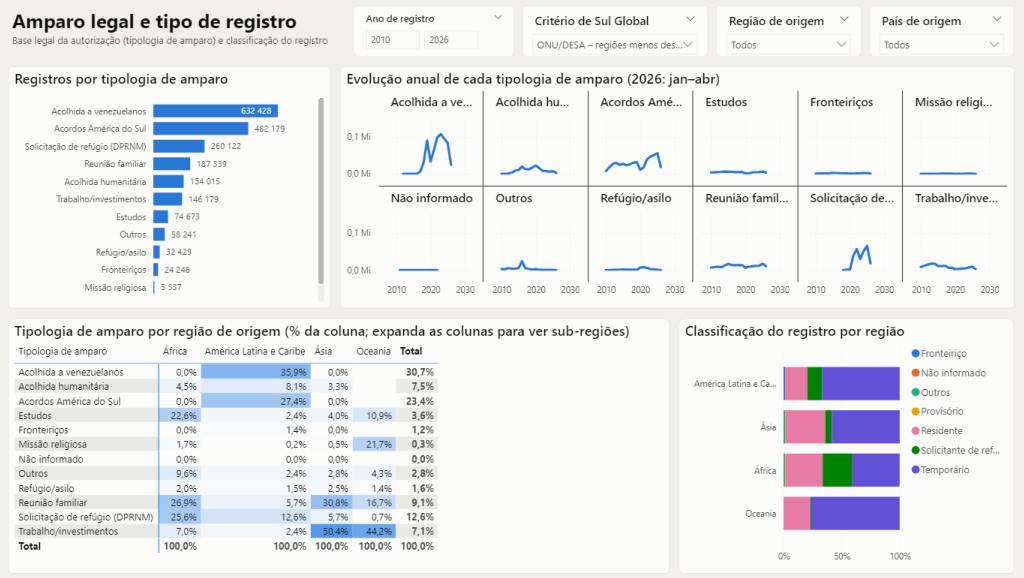

The dashboard page shown, as its layout file describes it:
{"tool":"powerbi","page":{"name":"Amparo legal","canvas":[1280,720],"ordinal":3},"visuals":[{"type":"textbox","box":[16,6,418,70],"z":0},{"type":"slicer","fields":{"Values":["Ano.Ano"]},"box":[444,8,200,64],"z":0},{"type":"slicer","fields":{"Values":["Critério Sul Global.Critério"]},"box":[654,8,230,64],"z":0},{"type":"slicer","fields":{"Values":["País.Região"]},"box":[894,8,180,64],"z":0},{"type":"slicer","fields":{"Values":["País.País"]},"box":[1084,8,180,64],"z":0},{"type":"clusteredBarChart","title":"Registros por tipologia de amparo","fields":{"Category":["Registros.Tipologia de amparo"],"Y":["Medidas.Registros Sul Global"]},"box":[16,84,400,300],"z":0},{"type":"lineChart","title":"Evolução anual de cada tipologia de amparo (2026: jan–abr)","fields":{"Category":["Ano.Ano"],"Y":["Medidas.Registros Sul Global"],"Rows":["Registros.Tipologia de amparo"]},"box":[428,84,836,300],"z":0},{"type":"pivotTable","title":"Tipologia de amparo por região de origem (% da coluna; expanda as colunas para ver sub-regiões)","fields":{"Rows":["Registros.Tipologia de amparo"],"Columns":["País.Região","País.Sub-região"],"Values":["Medidas.Distribuição por tipologia (%)"]},"box":[16,396,820,316],"z":0},{"type":"hundredPercentStackedBarChart","title":"Classificação do registro por região","fields":{"Category":["País.Região"],"Y":["Medidas.Registros Sul Global"],"Series":["Registros.Classificação do registro"]},"box":[848,396,416,316],"z":0}]}

Visuals, with their boxes in screenshot pixels (x1, y1, x2, y2), scaled from the page's 1280x720 canvas onto the 1024x578 screenshot:
textbox: 13,5,347,61
slicer - Ano.Ano: 355,6,515,58
slicer - Critério Sul Global.Critério: 523,6,707,58
slicer - País.Região: 715,6,859,58
slicer - País.País: 867,6,1011,58
"Registros por tipologia de amparo" clusteredBarChart: 13,67,333,308
"Evolução anual de cada tipologia de amparo (2026: jan–abr)" lineChart: 342,67,1011,308
"Tipologia de amparo por região de origem (% da coluna; expanda as colunas para ver sub-regiões)" pivotTable: 13,318,669,572
"Classificação do registro por região" hundredPercentStackedBarChart: 678,318,1011,572
